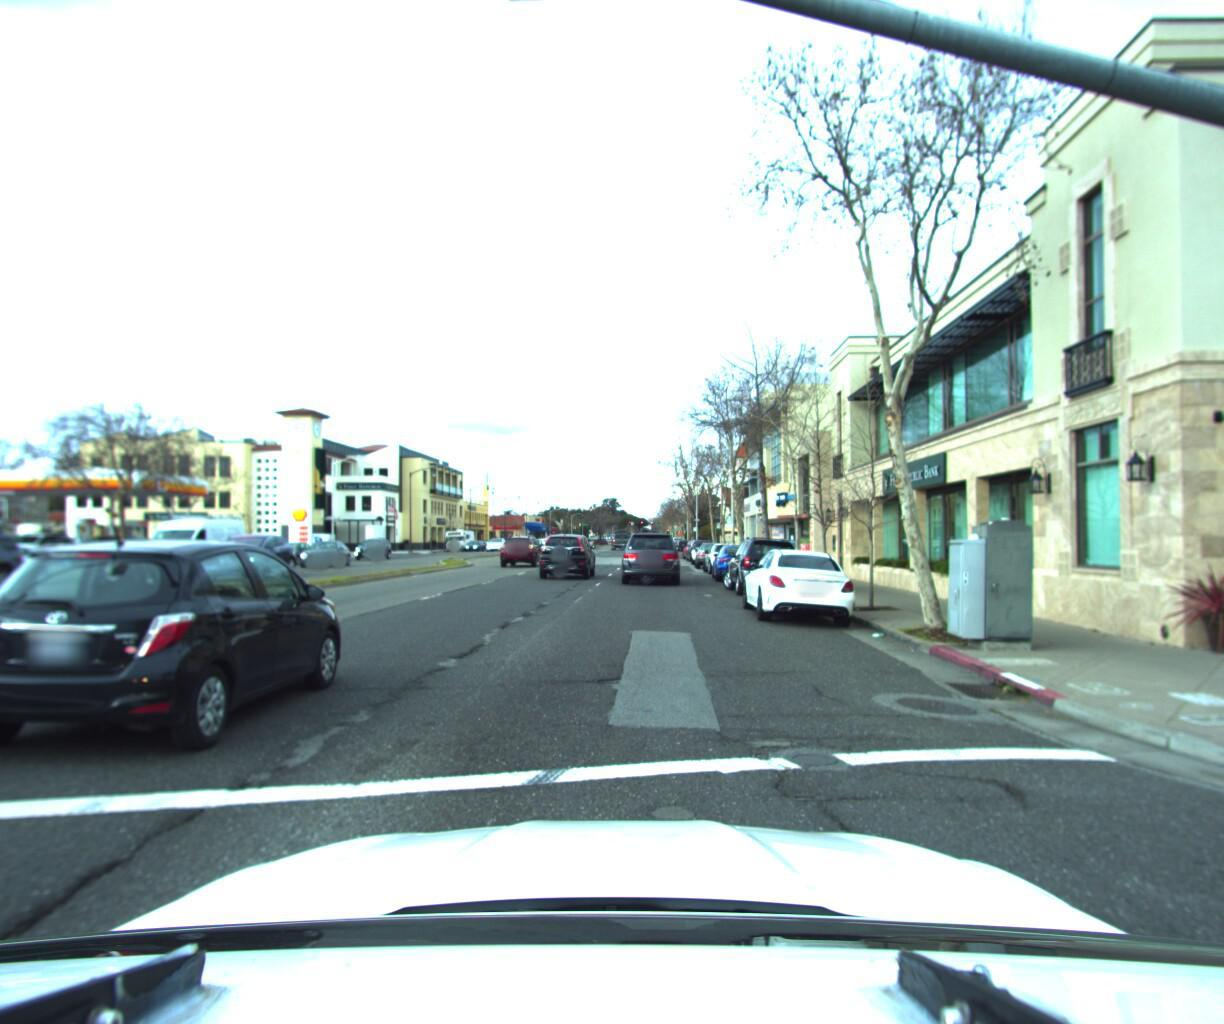car: (0, 531, 381, 778), (744, 539, 874, 623), (0, 509, 30, 797), (130, 508, 256, 577), (724, 531, 809, 594), (203, 531, 306, 579), (621, 524, 680, 583), (0, 529, 87, 566), (0, 545, 66, 594), (0, 529, 42, 603), (536, 531, 597, 579), (68, 532, 154, 564), (715, 539, 770, 579), (301, 538, 360, 565), (499, 531, 544, 565), (696, 537, 737, 567), (357, 534, 397, 557)
other_vehicle: (291, 524, 343, 547)
